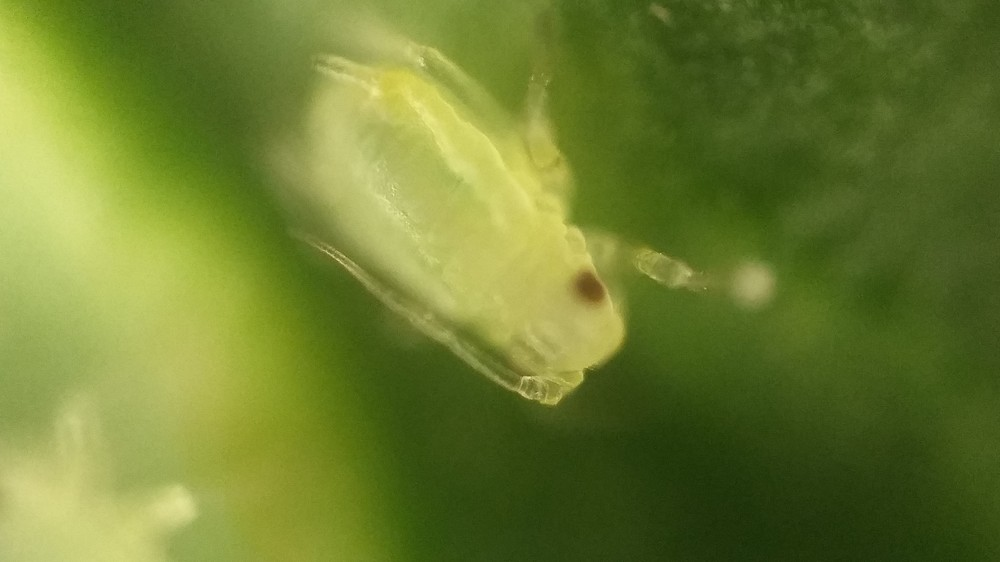Pulgon: (227, 15, 723, 450)
